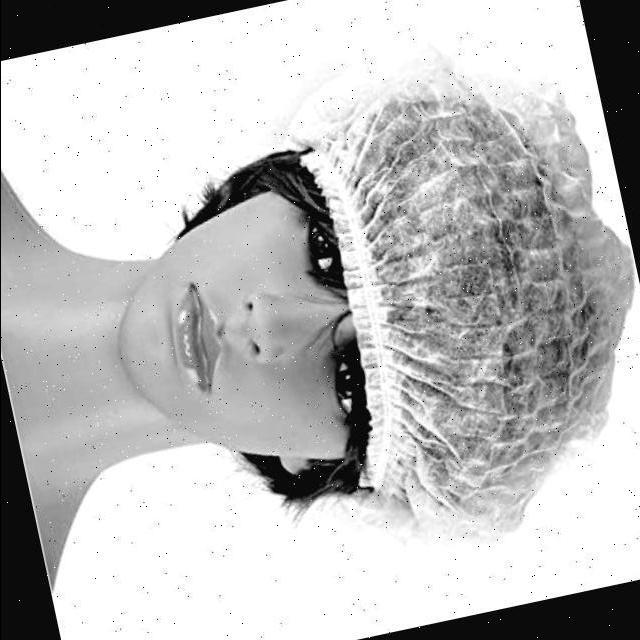gloves: (325, 0, 617, 587)
no_hairnet: (155, 266, 297, 443)
